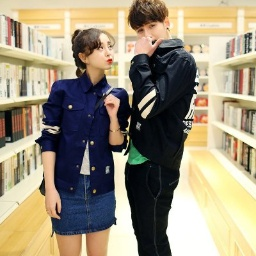face: (70, 27, 116, 85), (126, 1, 171, 49)
